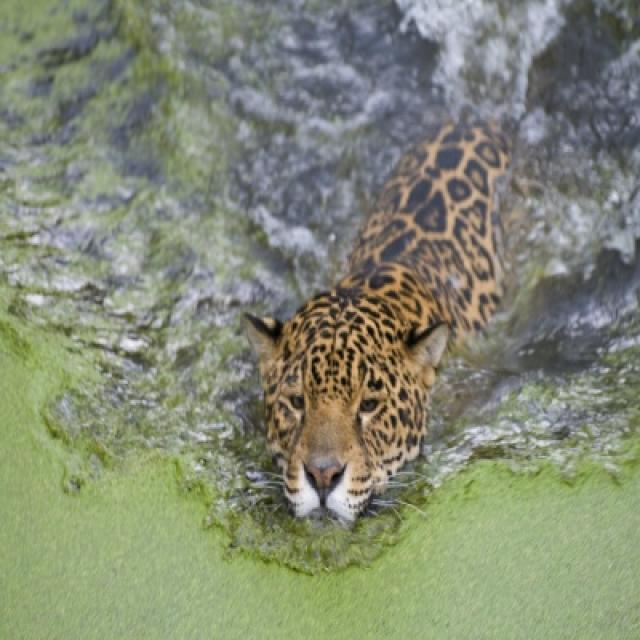Jaguar: (238, 120, 514, 530)
